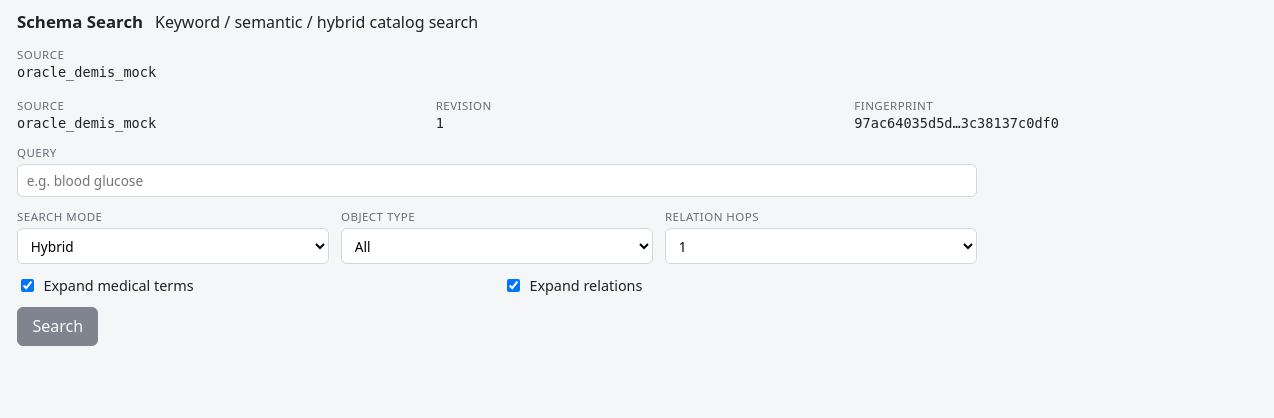
Test: SchemaSearch › shows embedding not ready guidance
Type "x" into the field with test id "search-query-input" at (497, 180), box [17,164,977,197]
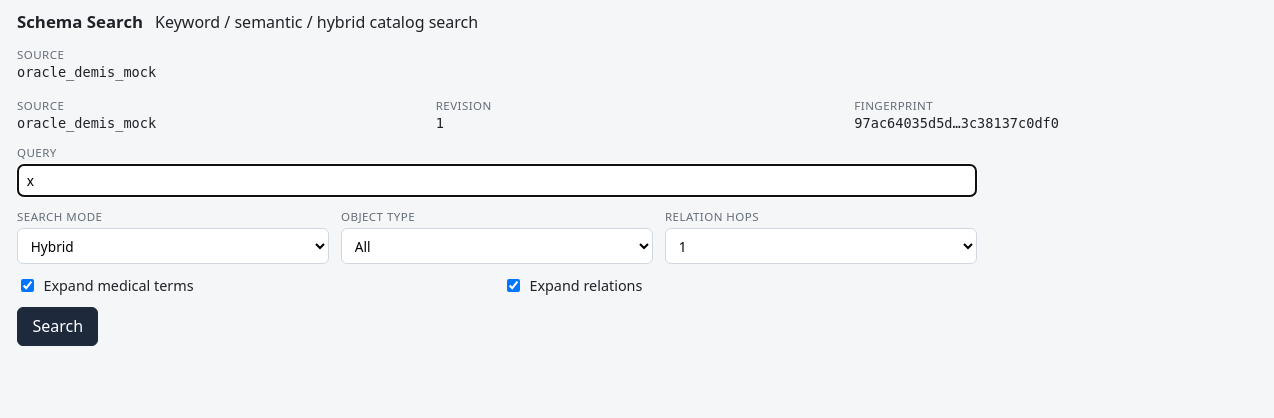
Click the button with test id "search-submit" at (58, 326), box [17,307,98,346]
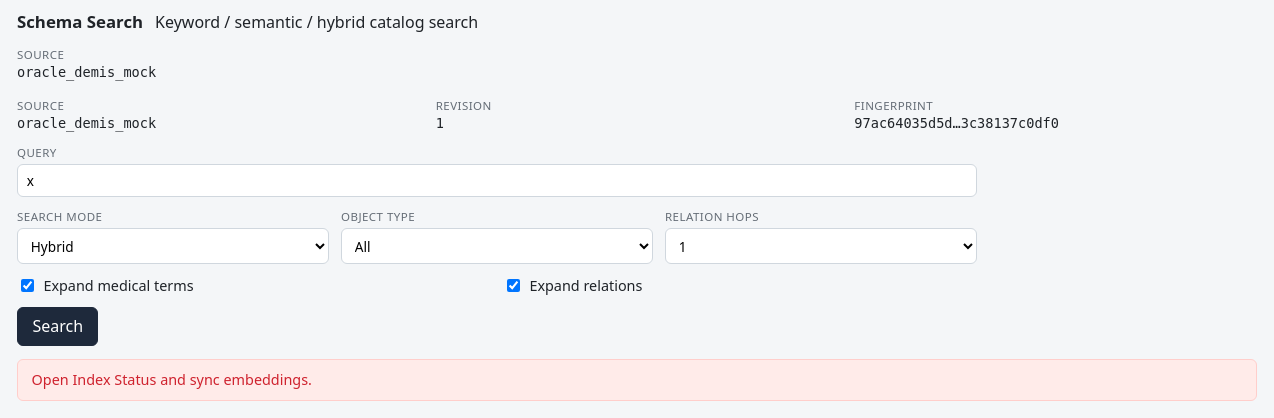
Check: the text with test id "search-error" shows "sync embeddings", box [32,370,312,390]
